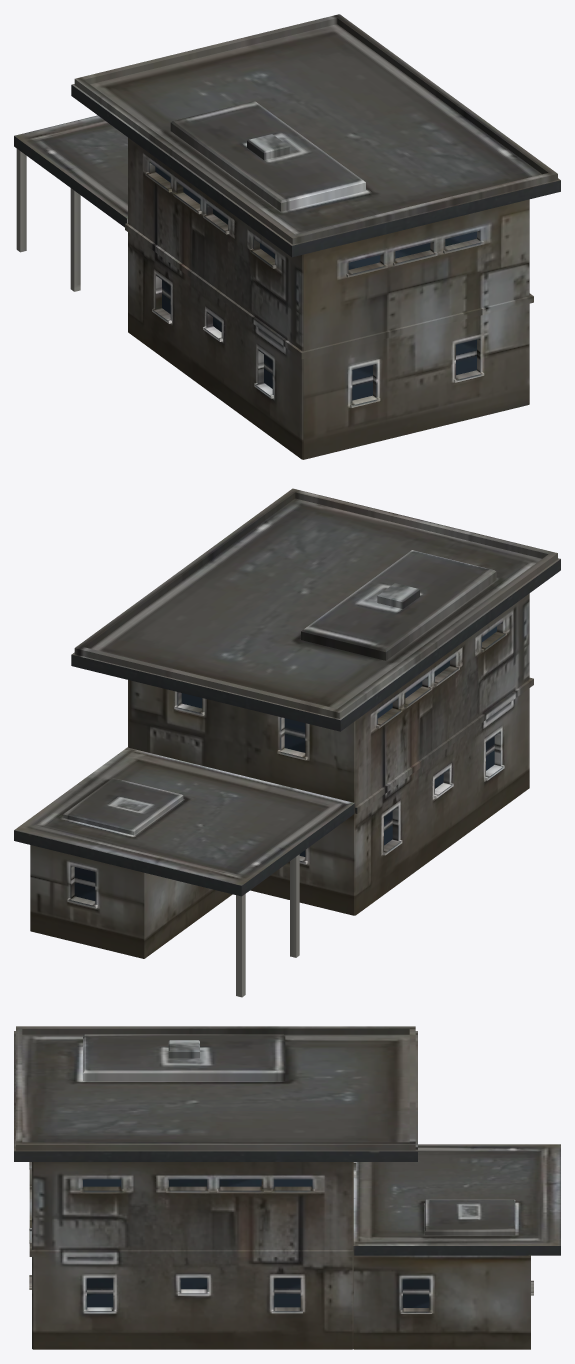
File: 2storycivliving_cad.glb
3 renders of one model, top to bottom at view 1: azimuth 30°, elevation 25°; view 2: azimuth 150°, elevation 25°; view 3: azimuth 270°, elevation 25°, orthographic. The views are drawn at different scales.
Visible parts, largest first — view 1: Box01; view 2: Box01; view 3: Box01.
Part boxes in pixels (x1,y1,x2,y2): Box01: [14, 14, 560, 459]; Box01: [14, 488, 560, 997]; Box01: [14, 1026, 560, 1349].
Bounding box in the file's own units: 6.9 × 6 × 13.26.
1 material, 1 textured.
